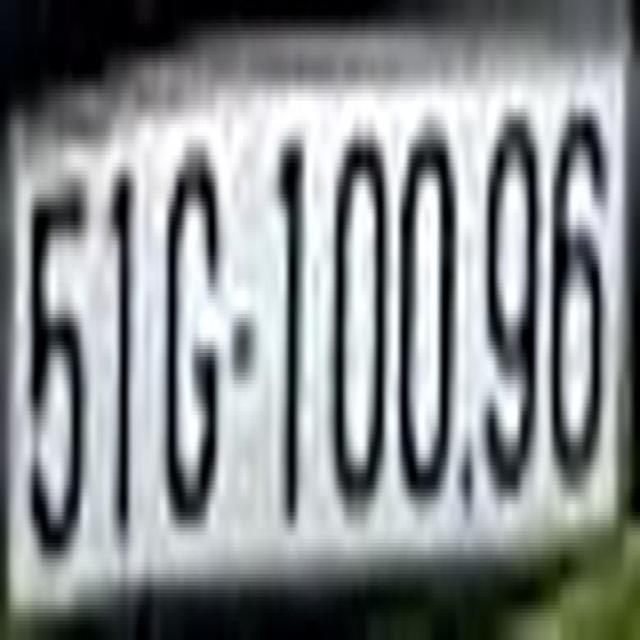0: (398, 124, 455, 535), (331, 116, 389, 508)
1: (270, 140, 304, 548), (108, 163, 139, 547)
5: (28, 170, 88, 554)
6: (550, 85, 609, 489)
9: (482, 100, 540, 497)
G: (163, 116, 224, 547)
